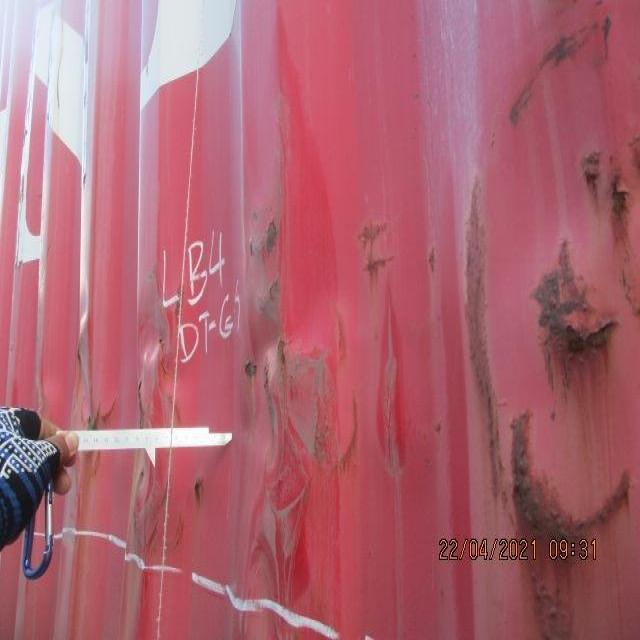Dent: (34, 234, 403, 534)
